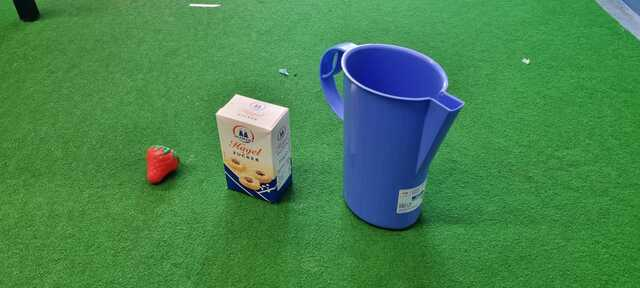004_sugar_box: (213, 91, 298, 207)
012_strawberry: (141, 142, 183, 188)
019_pitcher_base: (318, 38, 466, 232)
